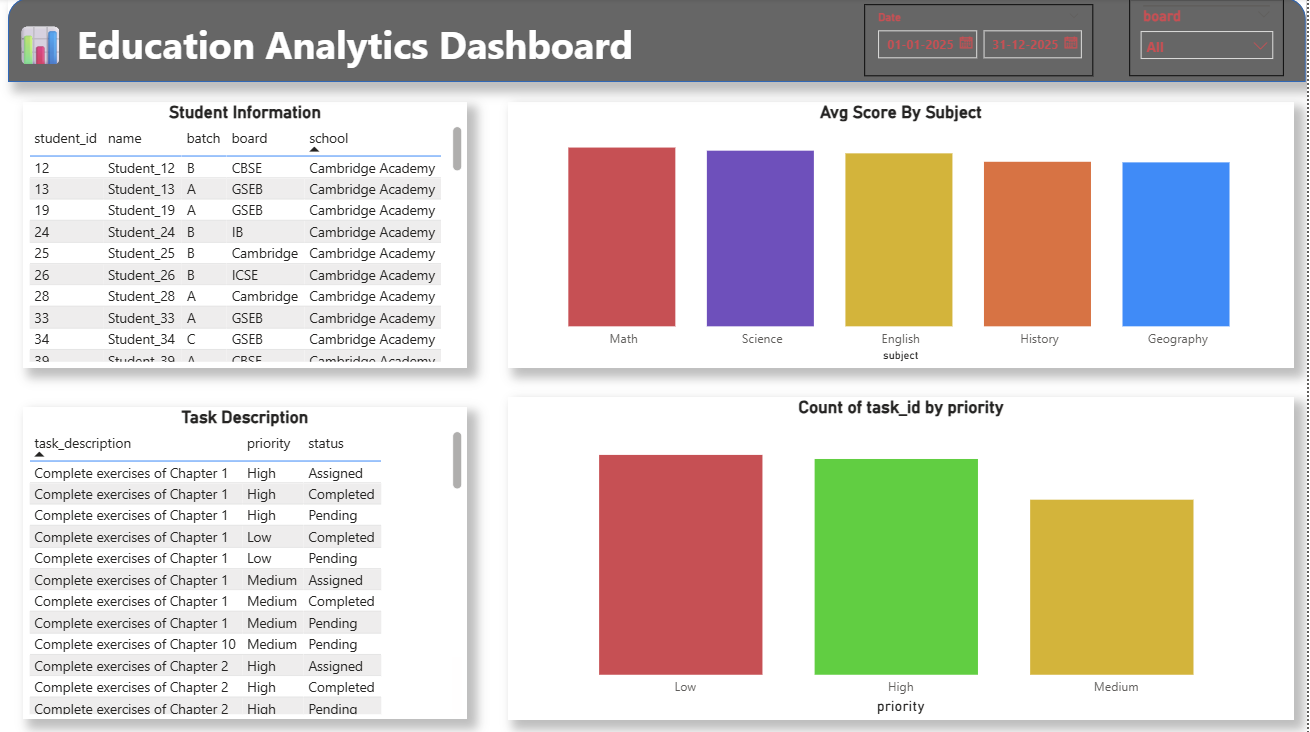

What the dashboard file says about the page in this screenshot:
{"tool":"powerbi","page":{"name":"Detail's","canvas":[1280,720],"ordinal":1},"visuals":[{"type":"shape","box":[10.1,0,1269.6,82.2],"z":0},{"type":"slicer","fields":{"Values":["Students.board"]},"box":[1106.6,1.4,151.5,75],"z":1000},{"type":"slicer","fields":{"Values":["calender table.Date"]},"box":[846.9,5.8,223.6,70.7],"z":2000},{"type":"columnChart","title":"Avg Score By Subject","fields":{"Category":["Test_Records.subject"],"Y":["Test_Records.avg score"]},"box":[499.2,101,769,259.7],"z":4000},{"type":"tableEx","title":"Task Description","fields":{"Values":["Work_Tasks.task_description","Work_Tasks.priority","Work_Tasks.status"]},"box":[24.5,399.6,434.3,305.9],"z":5000},{"type":"tableEx","title":"Student Information","fields":{"Values":["Students.student_id","Students.name","Students.batch","Students.board","Students.school"]},"box":[24.5,101,434.3,259.7],"z":5001},{"type":"columnChart","fields":{"Category":["Work_Tasks.priority"],"Y":["Count(Work_Tasks.task_id)"]},"box":[499.2,389.5,769,316],"z":5002}]}

Visuals, with their boxes in screenshot pixels (x1, y1, x2, y2), scaled from the page's 1280x720 canvas onto the 1310x732 screenshot:
shape: 10:0:1309:84
slicer - Students.board: 1133:1:1288:78
slicer - calender table.Date: 867:6:1096:78
"Avg Score By Subject" columnChart: 511:103:1298:367
"Task Description" tableEx: 25:406:470:717
"Student Information" tableEx: 25:103:470:367
columnChart - Work_Tasks.priority x Count(Work_Tasks.task_id): 511:396:1298:717
